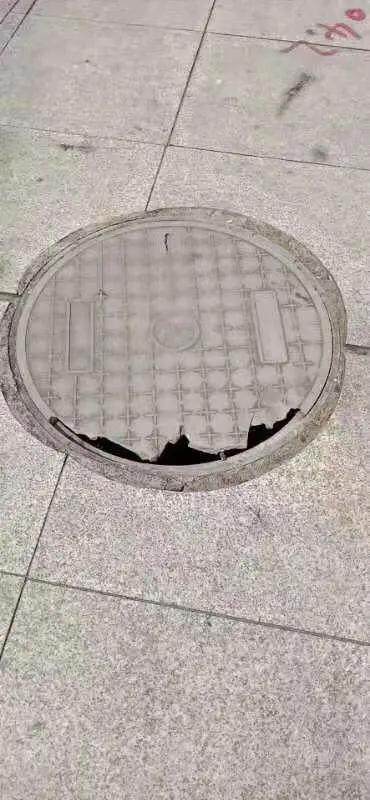wellcover: (12, 196, 370, 484)
